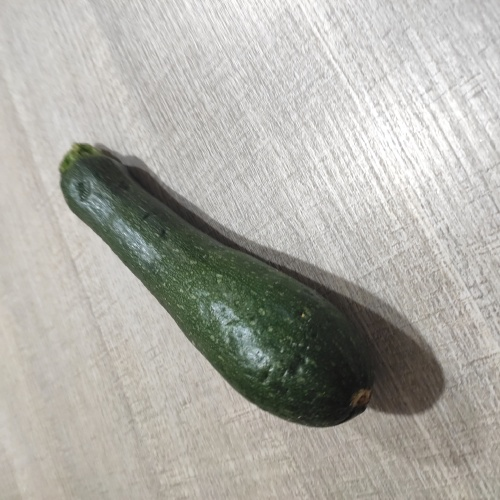zucchine: (57, 149, 377, 427)
